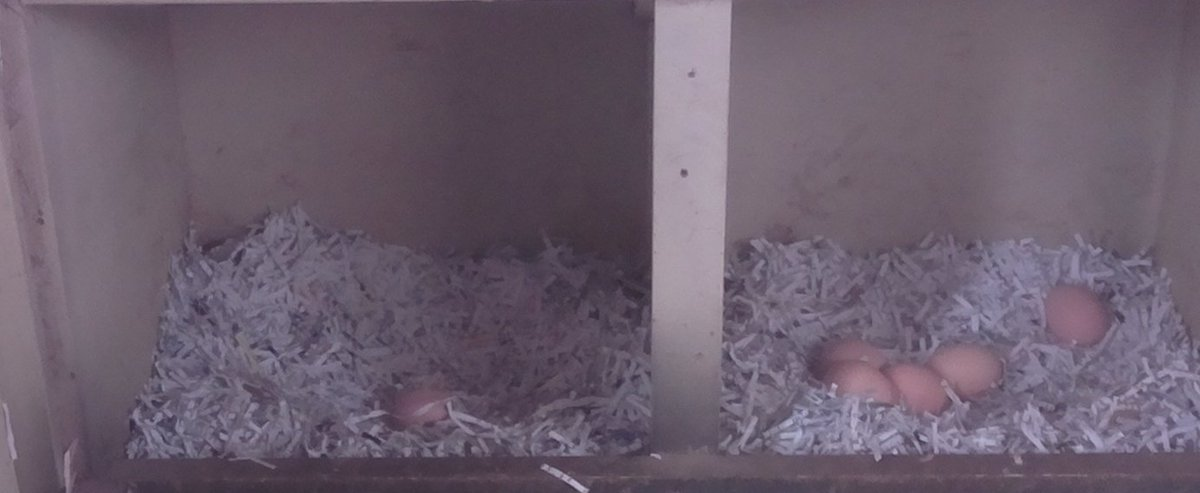egg: (1043, 281, 1114, 350), (881, 357, 954, 424), (818, 360, 901, 415), (930, 339, 1005, 399), (389, 386, 473, 432), (807, 336, 893, 374)
